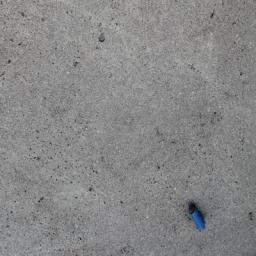FOD: (182, 201, 212, 234)
